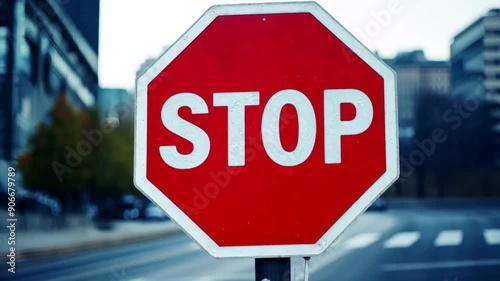StopSign: (133, 1, 399, 255)
